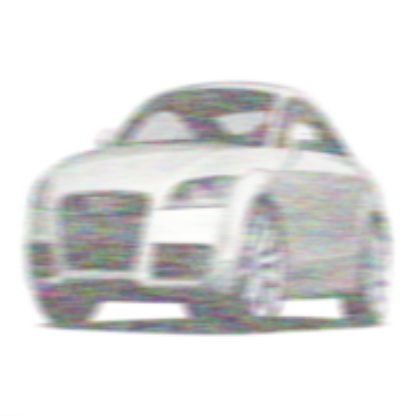Vehicle: (27, 80, 387, 326)
